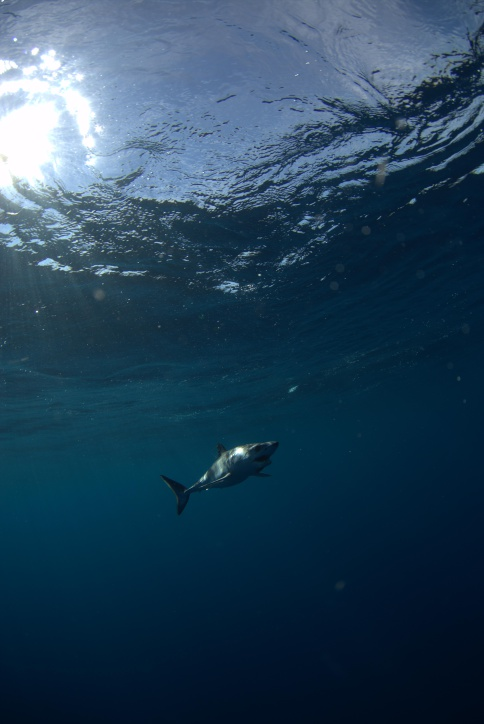Mako: (145, 432, 295, 521)
